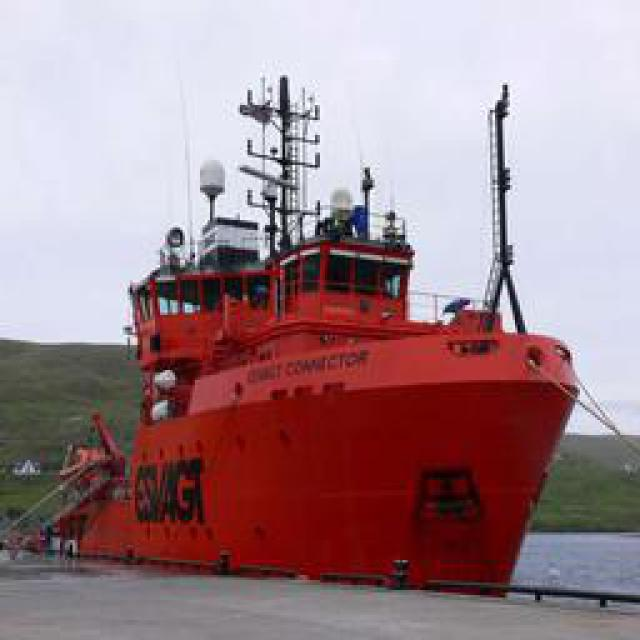Ship: (84, 58, 597, 596)
